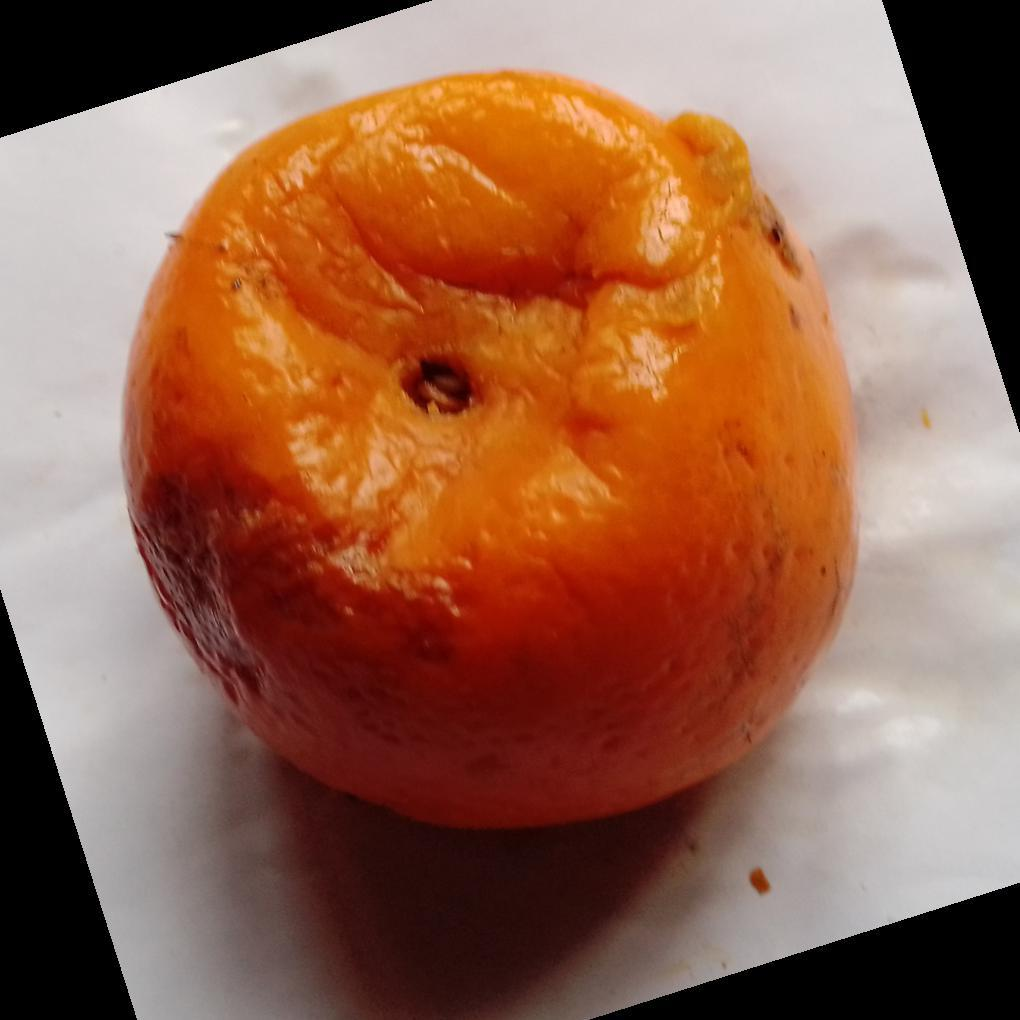FreshOrange: (119, 70, 861, 836)
